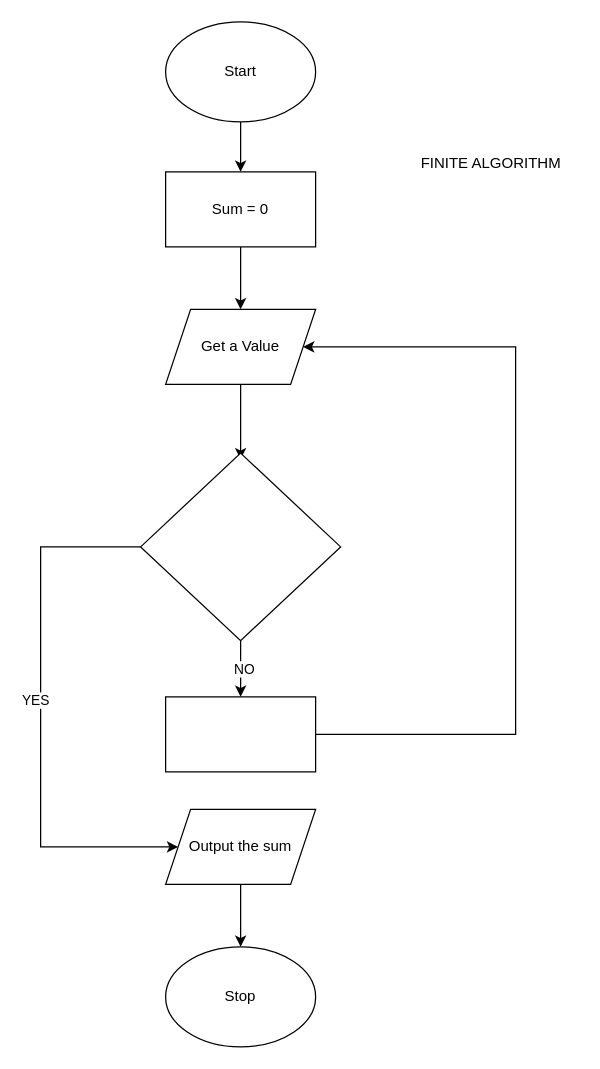
Image size: 600x1069. Some labels were removed from this diagram. Each missing label, with the box of its shape:
Add to sum (sum = sum + value): (164, 696, 316, 772)
If the value = -1, go to step 7: (139, 452, 341, 641)
